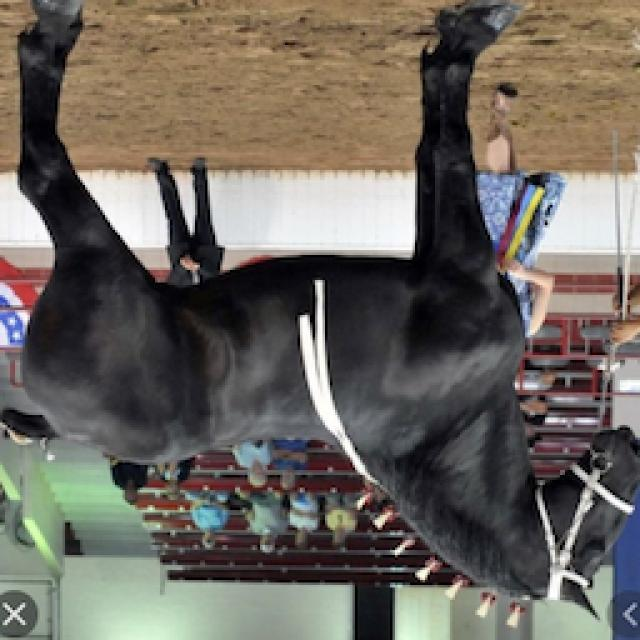Horse: (0, 2, 638, 626)
